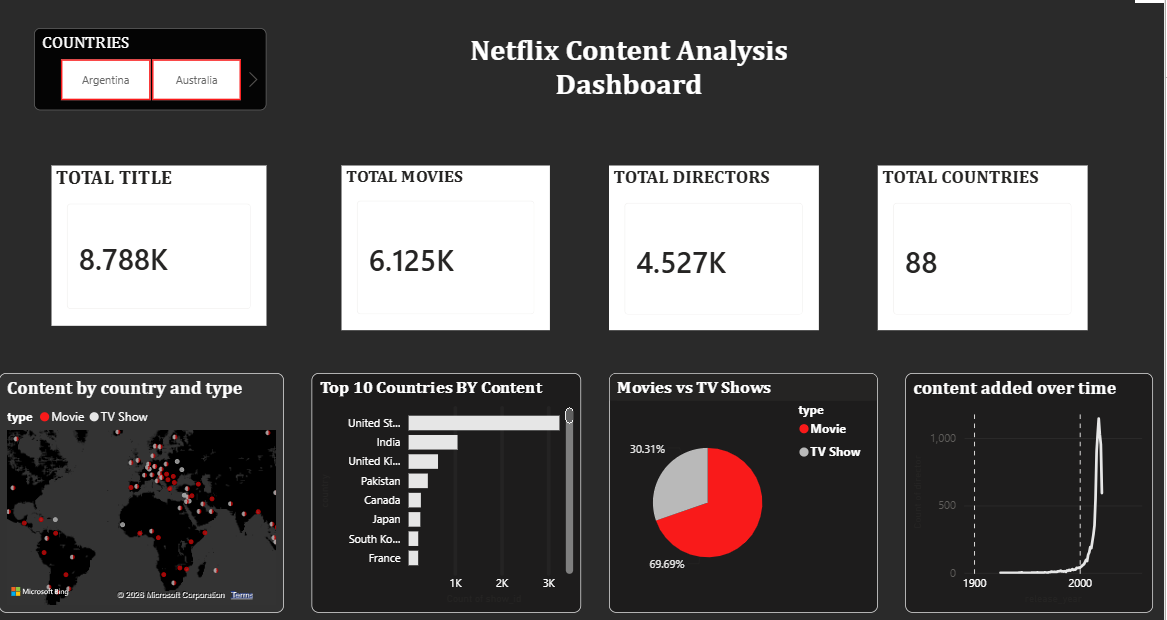

Layout of this report page (visuals, bound fields, positions):
{"tool":"powerbi","page":{"name":"Page 4","canvas":[1280,720],"ordinal":3},"visuals":[{"type":"shape","box":[0,0,1280.3,720.4],"z":0},{"type":"pieChart","title":"Movies vs TV Shows","fields":{"Y":["CountNonNull(Dataset (3).show_id)"],"Category":["Dataset (3).type"]},"box":[669.6,439.1,295,263.5],"z":1000},{"type":"map","title":"Content by country and type","fields":{"Category":["Dataset (3).country"],"Series":["Dataset (3).type"]},"box":[0,439.1,312.9,263.5],"z":3000},{"type":"clusteredBarChart","title":"Top 10 Countries BY Content","fields":{"Category":["Dataset (3).country"],"Y":["CountNonNull(Dataset (3).show_id)"]},"box":[343.1,439.1,296.4,263.5],"z":4000},{"type":"slicer","title":"COUNTRIES","fields":{"Values":["Dataset (3).country"]},"box":[38.4,60.4,255.2,90.6],"z":5000},{"type":"lineChart","title":"content added over time","fields":{"Category":["Dataset (3).release_year"],"Y":["CountNonNull(Dataset (3).director)"]},"box":[994.9,439.1,271.7,263.5],"z":6000},{"type":"textbox","box":[439.1,60.4,505,126.2],"z":6001},{"type":"cardVisual","title":"TOTAL MOVIES","fields":{"Data":["Count(Dataset (3).show_id)"]},"box":[376,211.3,229.2,181.1],"z":6002},{"type":"cardVisual","title":"TOTAL DIRECTORS","fields":{"Data":["Count(Dataset (3).director)"]},"box":[669.6,211.3,230.5,181.1],"z":6003},{"type":"cardVisual","title":"TOTAL COUNTRIES","fields":{"Data":["Count(Dataset (3).country)"]},"box":[964.7,211.3,230.5,181.1],"z":6004},{"type":"cardVisual","title":"TOTAL  TITLE","fields":{"Data":["Count(Dataset (3).show_id)"]},"box":[57.6,211.3,236,175.6],"z":6005}]}

Visuals, with their boxes on the page's 1280x720 design canvas (x1, y1, x2, y2). These are canvas units, not pixel positions in the 1167x620 screenshot, which may show the page scaled, cropped or inside an application window:
shape: 0/0/1280/720
"Movies vs TV Shows" pieChart: 670/439/965/703
"Content by country and type" map: 0/439/313/703
"Top 10 Countries BY Content" clusteredBarChart: 343/439/640/703
"COUNTRIES" slicer: 38/60/294/151
"content added over time" lineChart: 995/439/1267/703
textbox: 439/60/944/187
"TOTAL MOVIES" cardVisual: 376/211/605/392
"TOTAL DIRECTORS" cardVisual: 670/211/900/392
"TOTAL COUNTRIES" cardVisual: 965/211/1195/392
"TOTAL  TITLE" cardVisual: 58/211/294/387
